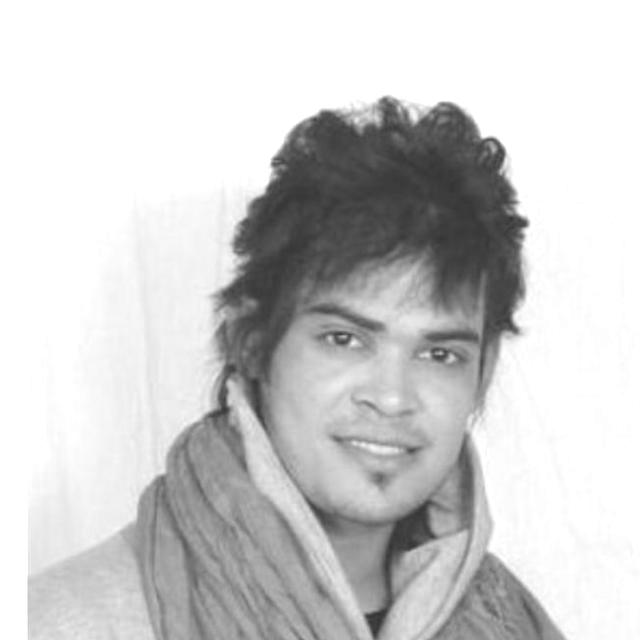real: (244, 106, 534, 524)
